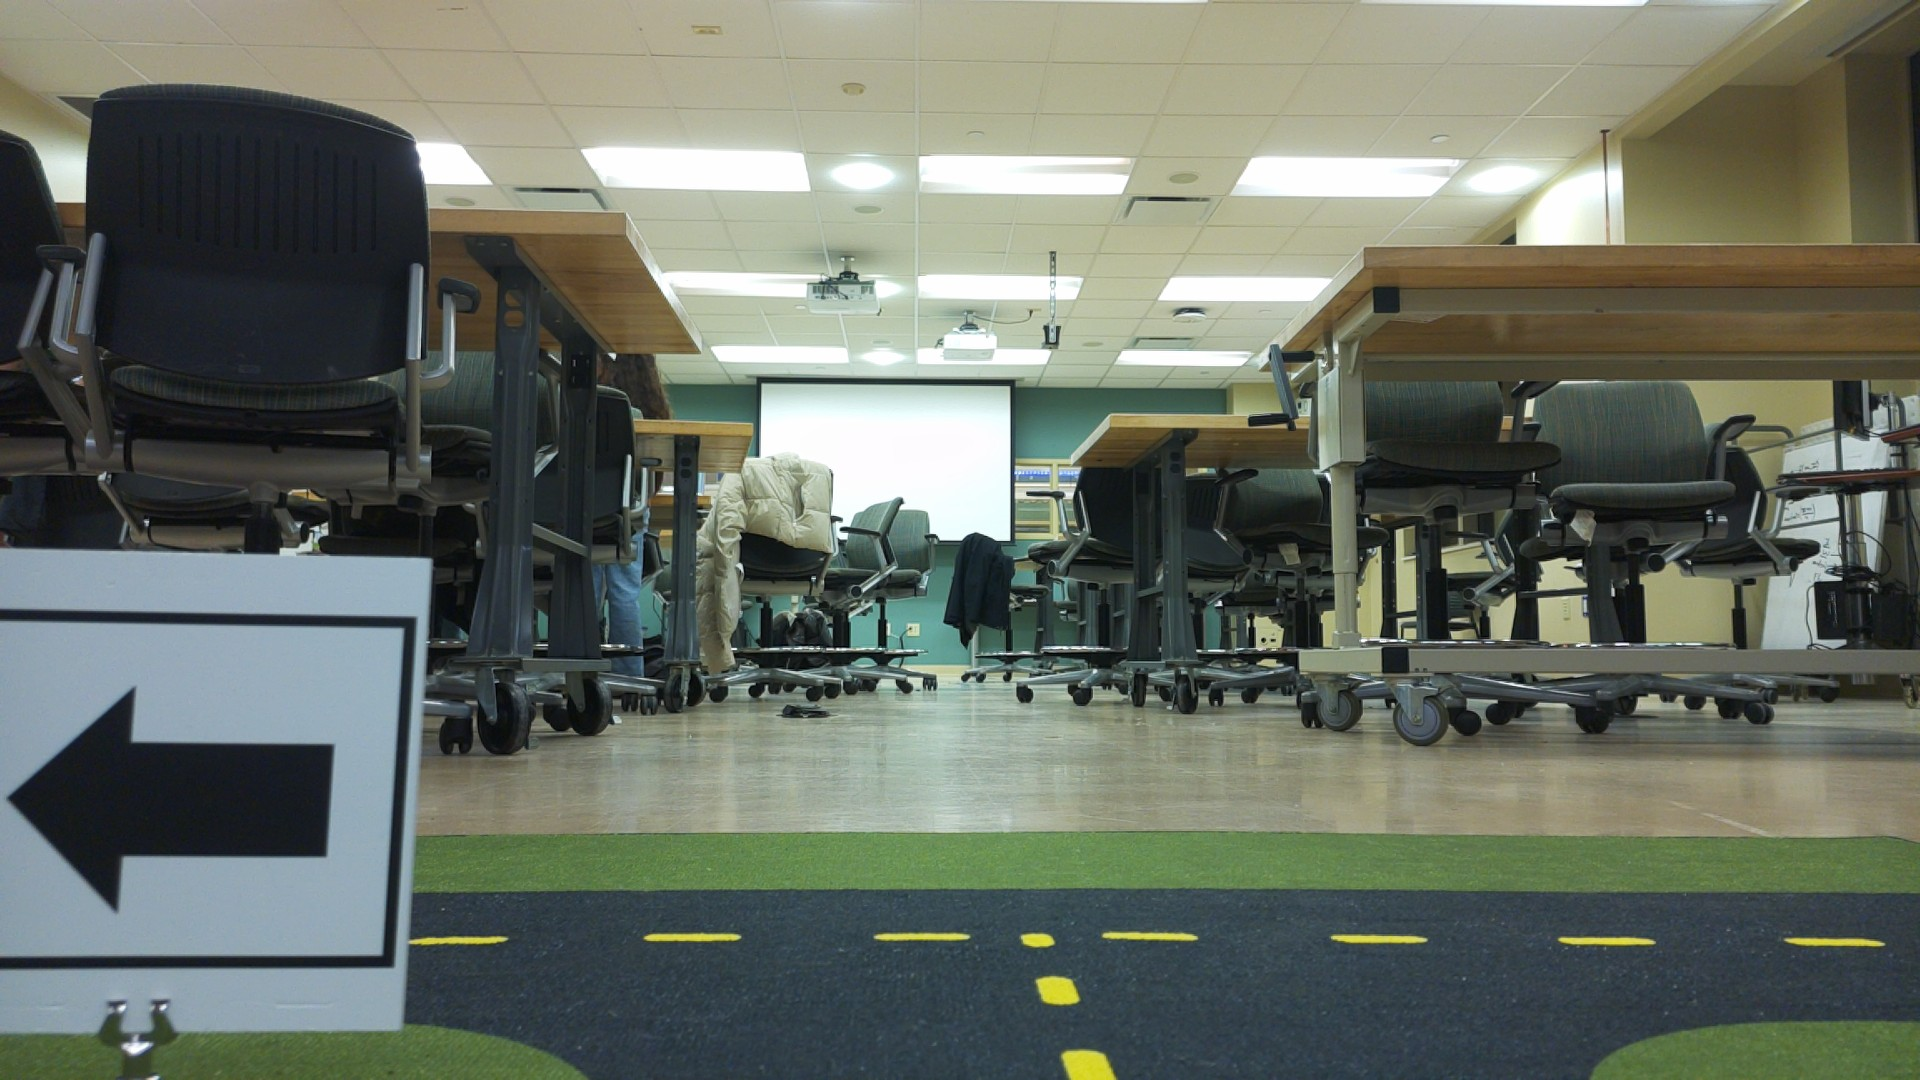turnleft: (3, 556, 415, 1034)
